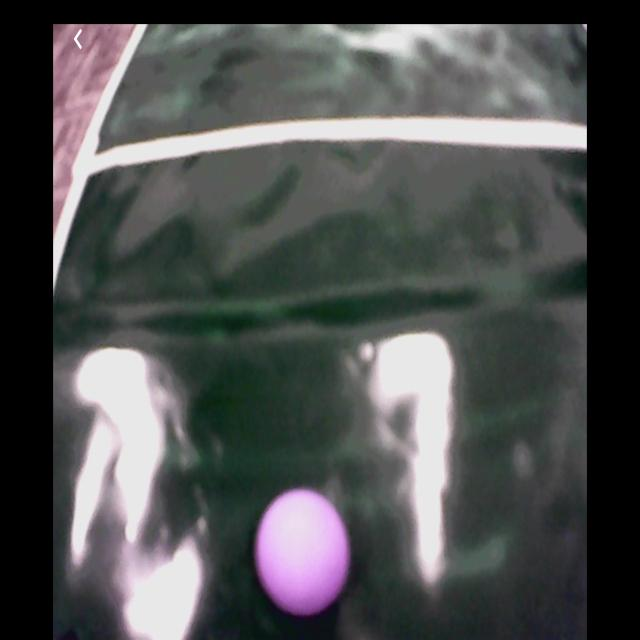ball: (255, 489, 353, 617)
